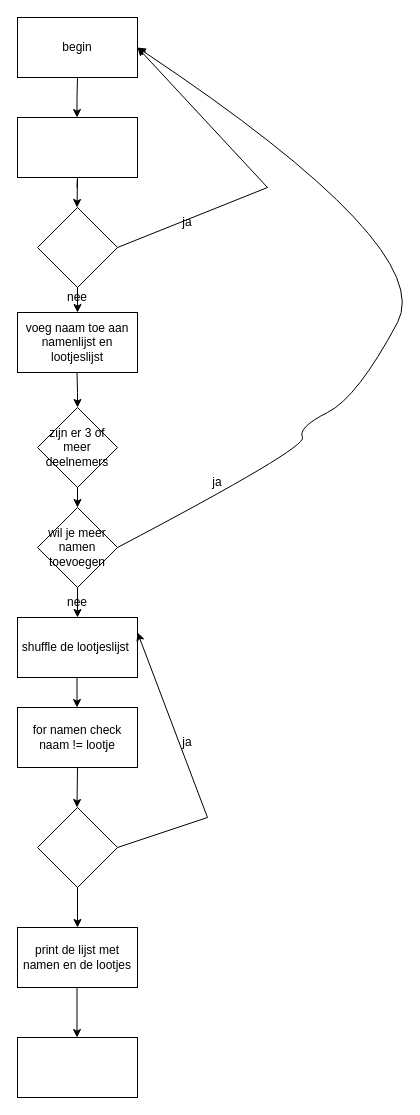
Some shapes in this 420 by 1115 pixel diagram are drawn without their labels. Here are the shapes that lost their labels. From the top down, the box of each, then its label:
(16, 116, 138, 178): voeg een naam toe
(36, 206, 118, 288): zit de naam al in de namenlijst
(36, 806, 118, 888): controleer of namenlijst != aan lootjeslijst
(16, 1036, 138, 1098): eind
